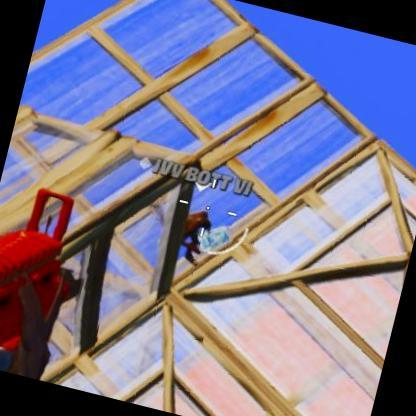person: (176, 204, 214, 266)
